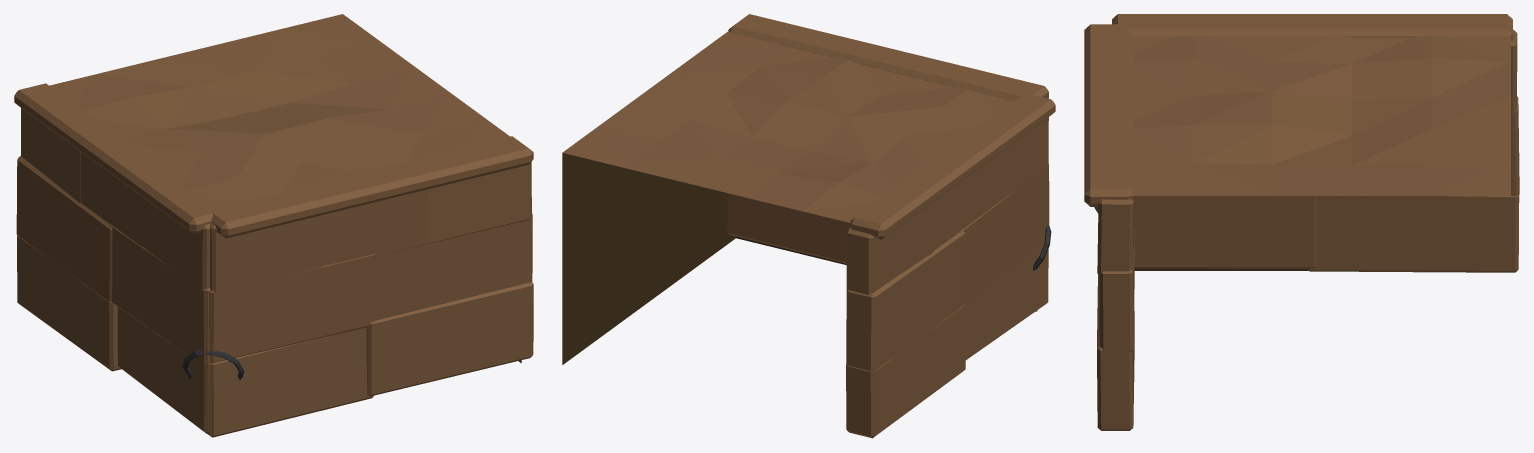
Rendered from SM_Terrain_Tavern_02_Corner.fbx.
3 views of the same model, side by side, from view 1: azimuth 30°, elevation 25°; view 2: azimuth 150°, elevation 25°; view 3: azimuth 270°, elevation 25° (orthographic). The views are drawn at different scales.
Visible parts, largest first — view 1: SM_Terrain_Tavern_02_Corner_Wall, SM_Terrain_Tavern_02_Corner_StrataY01, SM_Terrain_Tavern_02_Corner_StrataY10, SM_Terrain_Tavern_02_Corner_StrataY00, SM_Terrain_Tavern_02_Corner_LipY, SM_Terrain_Tavern_02_Corner_StrataY11, SM_Terrain_Tavern_02_Corner_LipX, SM_Terrain_Tavern_02_Corner_StrataX11, SM_Terrain_Tavern_02_Corner_StrataX10, SM_Terrain_Tavern_02_Corner_StrataX01, SM_Terrain_Tavern_02_Corner_StrataY20, SM_Terrain_Tavern_02_Corner_StrataY22 (+6 smaller); view 2: SM_Terrain_Tavern_02_Corner_Wall, SM_Terrain_Tavern_02_Corner_StrataX11, SM_Terrain_Tavern_02_Corner_StrataX01, SM_Terrain_Tavern_02_Corner_LipX, SM_Terrain_Tavern_02_Corner_LipY, SM_Terrain_Tavern_02_Corner_StrataX10, SM_Terrain_Tavern_02_Corner_StrataY01, SM_Terrain_Tavern_02_Corner_StrataX00, SM_Terrain_Tavern_02_Corner_StrataX22, SM_Terrain_Tavern_02_Corner_StrataX20, SM_Terrain_Tavern_02_Corner_StrataX21; view 3: SM_Terrain_Tavern_02_Corner_Wall, SM_Terrain_Tavern_02_Corner_StrataX01, SM_Terrain_Tavern_02_Corner_StrataX00, SM_Terrain_Tavern_02_Corner_LipX, SM_Terrain_Tavern_02_Corner_LipY, SM_Terrain_Tavern_02_Corner_StrataY01, SM_Terrain_Tavern_02_Corner_StrataY11, SM_Terrain_Tavern_02_Corner_StrataY22, SM_Terrain_Tavern_02_Corner_StrataX11, SM_Terrain_Tavern_02_Corner_StrataX22.
Part boxes in pixels (x1,y1,x2,y2): SM_Terrain_Tavern_02_Corner_Wall: (49,14,521,363); SM_Terrain_Tavern_02_Corner_StrataY01: (366,282,533,396); SM_Terrain_Tavern_02_Corner_StrataY10: (209,254,375,363); SM_Terrain_Tavern_02_Corner_StrataY00: (207,327,373,437); SM_Terrain_Tavern_02_Corner_LipY: (211,136,533,238); SM_Terrain_Tavern_02_Corner_StrataY11: (375,213,532,320); SM_Terrain_Tavern_02_Corner_LipX: (14,83,220,234); SM_Terrain_Tavern_02_Corner_StrataX11: (16,156,112,301); SM_Terrain_Tavern_02_Corner_StrataX10: (109,224,210,366); SM_Terrain_Tavern_02_Corner_StrataX01: (17,235,121,371); SM_Terrain_Tavern_02_Corner_StrataY20: (209,215,321,292); SM_Terrain_Tavern_02_Corner_StrataY22: (425,162,531,243); SM_Terrain_Tavern_02_Corner_Wall: (562,31,1037,364); SM_Terrain_Tavern_02_Corner_StrataX11: (846,231,965,371); SM_Terrain_Tavern_02_Corner_StrataX01: (846,305,965,438); SM_Terrain_Tavern_02_Corner_LipX: (850,93,1055,239); SM_Terrain_Tavern_02_Corner_LipY: (728,14,1048,101); SM_Terrain_Tavern_02_Corner_StrataX10: (960,164,1049,302); SM_Terrain_Tavern_02_Corner_StrataY01: (727,193,850,263); SM_Terrain_Tavern_02_Corner_StrataX00: (965,241,1048,359); SM_Terrain_Tavern_02_Corner_StrataX22: (846,202,933,294); SM_Terrain_Tavern_02_Corner_StrataX20: (990,117,1048,207); SM_Terrain_Tavern_02_Corner_StrataX21: (933,160,990,250); SM_Terrain_Tavern_02_Corner_Wall: (1130,35,1510,270); SM_Terrain_Tavern_02_Corner_StrataX01: (1307,195,1519,272); SM_Terrain_Tavern_02_Corner_StrataX00: (1134,196,1316,268); SM_Terrain_Tavern_02_Corner_LipX: (1112,14,1512,40); SM_Terrain_Tavern_02_Corner_LipY: (1084,24,1133,206); SM_Terrain_Tavern_02_Corner_StrataY01: (1097,274,1134,430); SM_Terrain_Tavern_02_Corner_StrataY11: (1099,215,1134,351); SM_Terrain_Tavern_02_Corner_StrataY22: (1097,196,1133,274); SM_Terrain_Tavern_02_Corner_StrataX11: (1315,96,1519,198); SM_Terrain_Tavern_02_Corner_StrataX22: (1511,29,1517,116).
Size of the model in its own units: 2.18 by 1.38 by 2.19.
